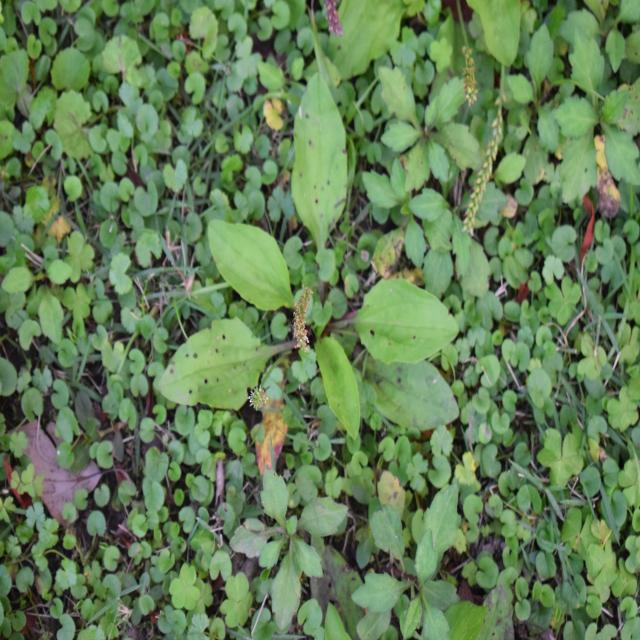plantain: (168, 89, 430, 438)
